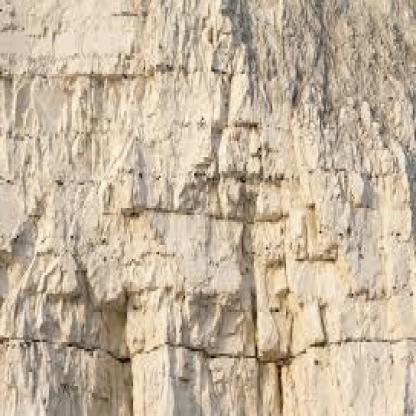Sedimentary_Chalk: (77, 49, 370, 404)
